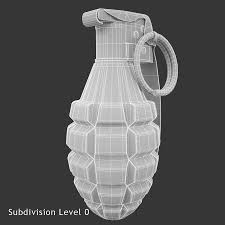e1: (67, 8, 178, 219)
